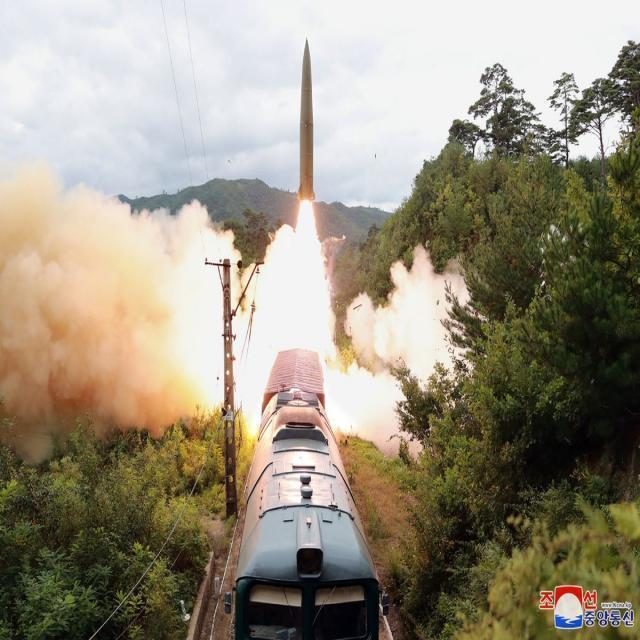Missile: (290, 31, 324, 210)
